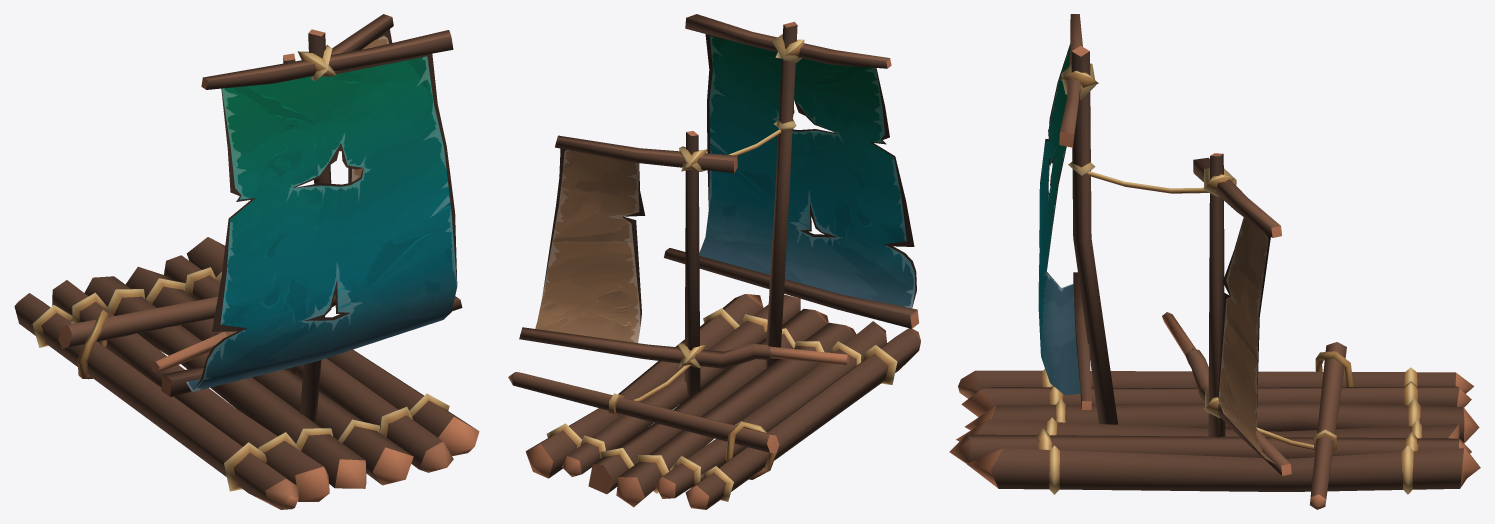
The model's file is Boat_2C.fbx.
3 renders of one model, left to right at view 1: azimuth 30°, elevation 25°; view 2: azimuth 150°, elevation 25°; view 3: azimuth 270°, elevation 25°, orthographic. The views are drawn at different scales.
Visible parts, largest first — view 1: Boat_2C, Boat_2C_Sail; view 2: Boat_2C, Boat_2C_Sail; view 3: Boat_2C, Boat_2C_Sail.
Part boxes in pixels (<box>): Boat_2C: <box>14,29,479,509</box>; Boat_2C_Sail: <box>151,14,393,374</box>; Boat_2C: <box>508,14,920,509</box>; Boat_2C_Sail: <box>519,131,849,397</box>; Boat_2C: <box>949,14,1480,509</box>; Boat_2C_Sail: <box>1162,153,1291,475</box>.
Bounding box in the file's own units: 3.05 × 3.42 × 4.07.
